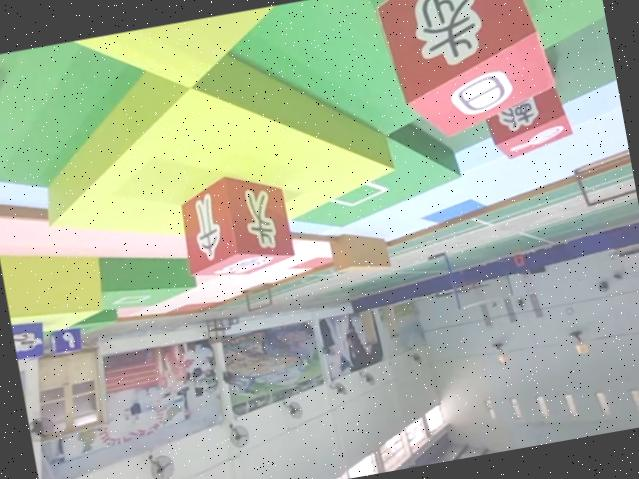R2 Fake: (371, 0, 560, 147), (173, 165, 296, 284), (478, 61, 576, 163)
